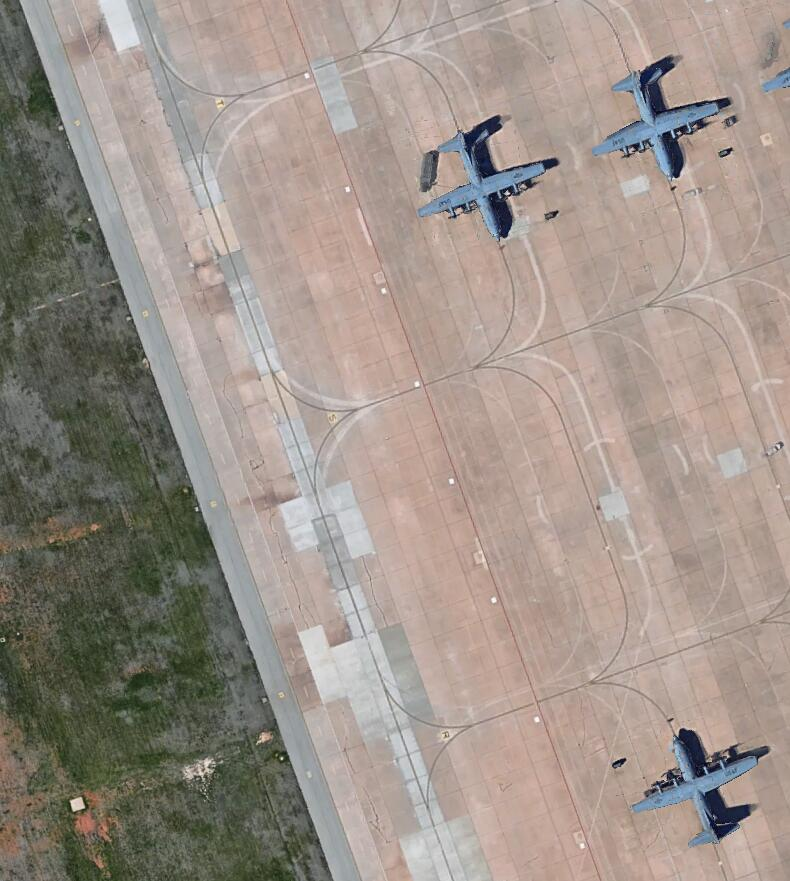A2: (410, 115, 560, 250), (585, 55, 736, 188), (625, 721, 771, 849)
